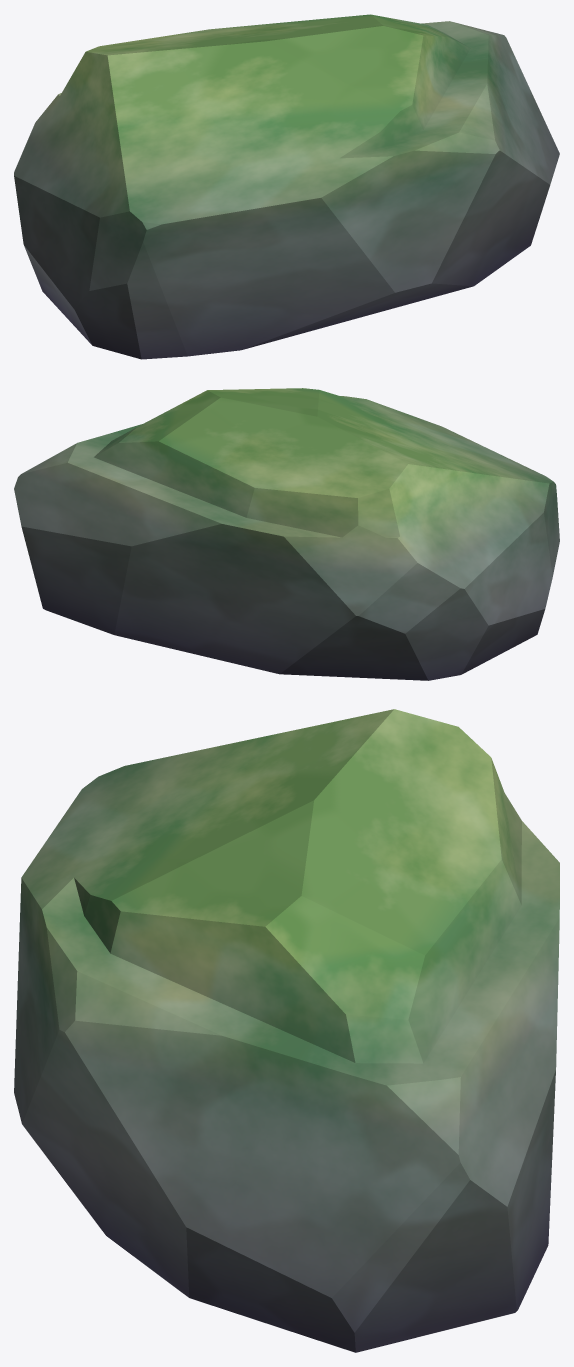
File: rock_large.fbx
The picture shows the model from 3 angles, top to bottom: view 1: azimuth 30°, elevation 25°; view 2: azimuth 150°, elevation 25°; view 3: azimuth 270°, elevation 25°; orthographic projection. The views are drawn at different scales.
Visible parts, largest first — view 1: Sphere.002; view 2: Sphere.002; view 3: Sphere.002.
Boxes of the visible parts, bbox=[...] form: Sphere.002: bbox=[14, 14, 559, 359]; Sphere.002: bbox=[14, 388, 559, 680]; Sphere.002: bbox=[14, 709, 559, 1352].
Size of the model in its own units: 547 by 226 by 331.
1 material, 1 textured.
